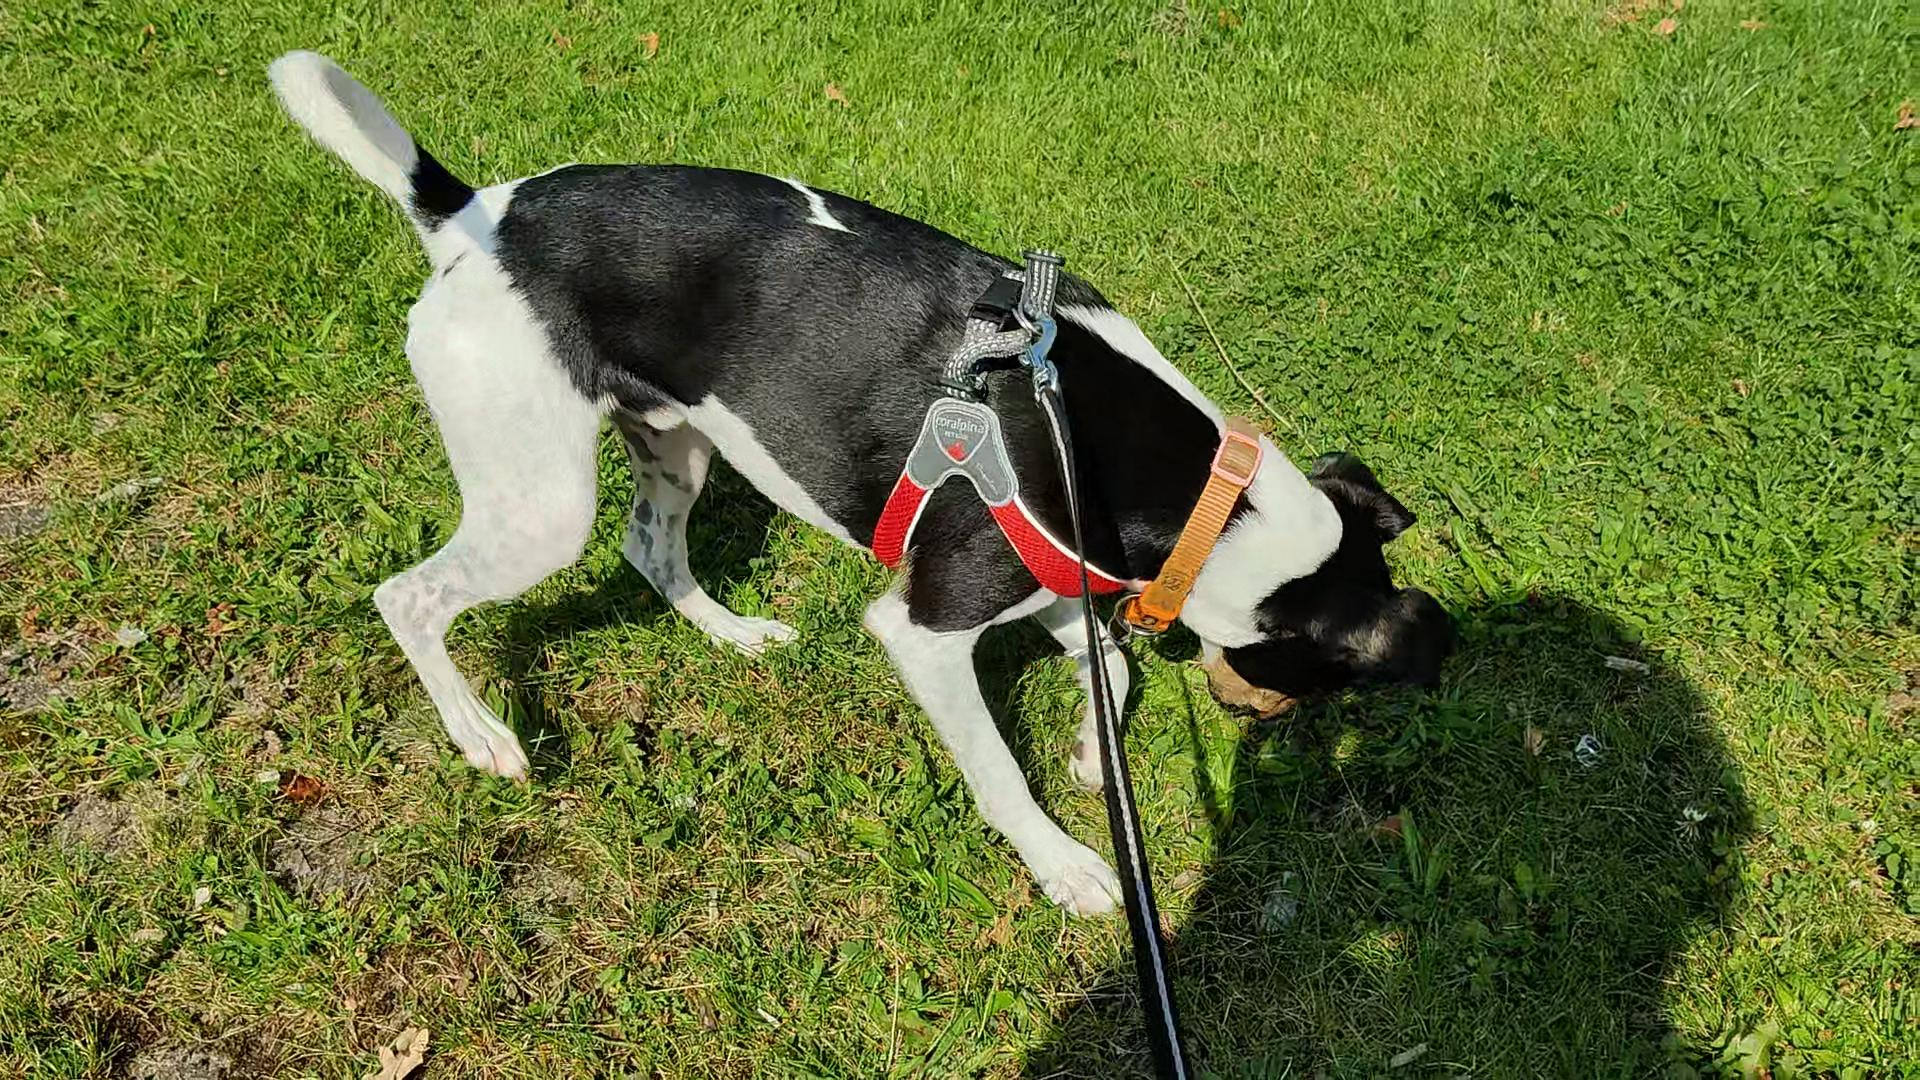Dog: (252, 37, 1466, 927)
